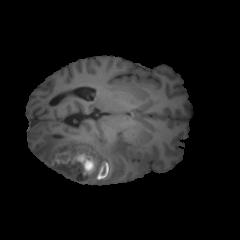glioma: (35, 129, 132, 183)
